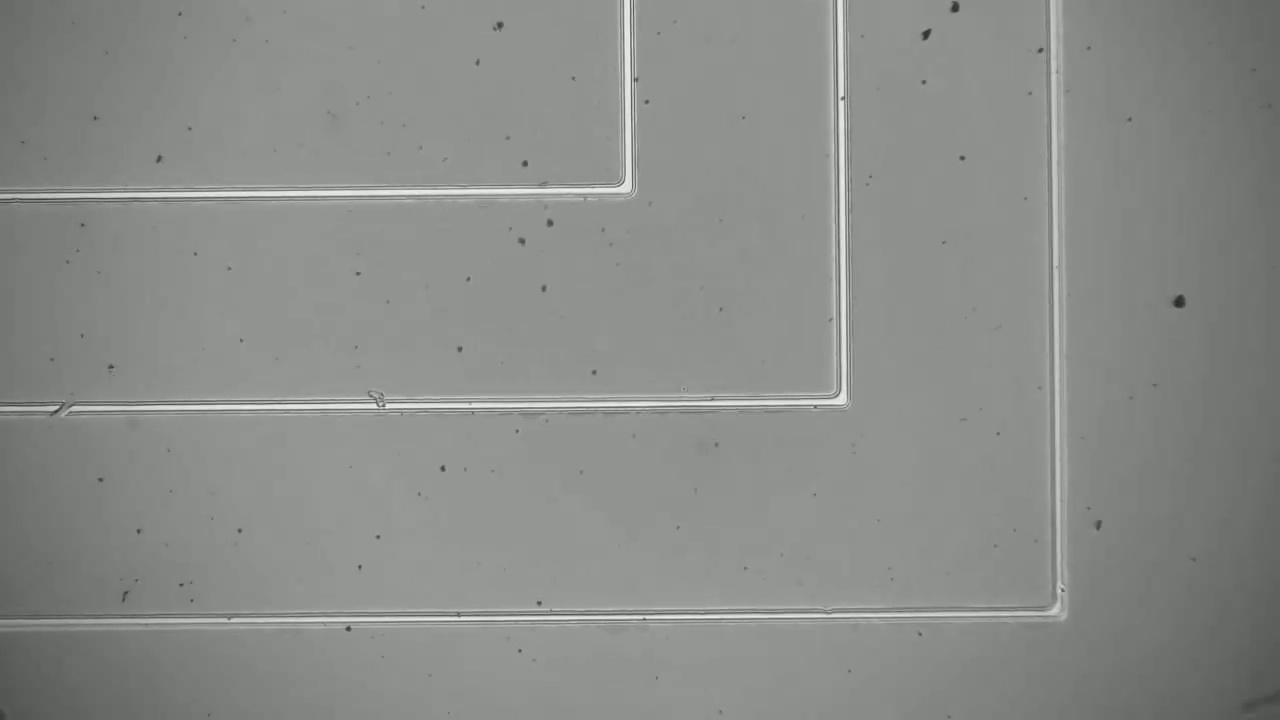open: (36, 389, 84, 431)
stains_enbedded: (354, 380, 393, 426)
